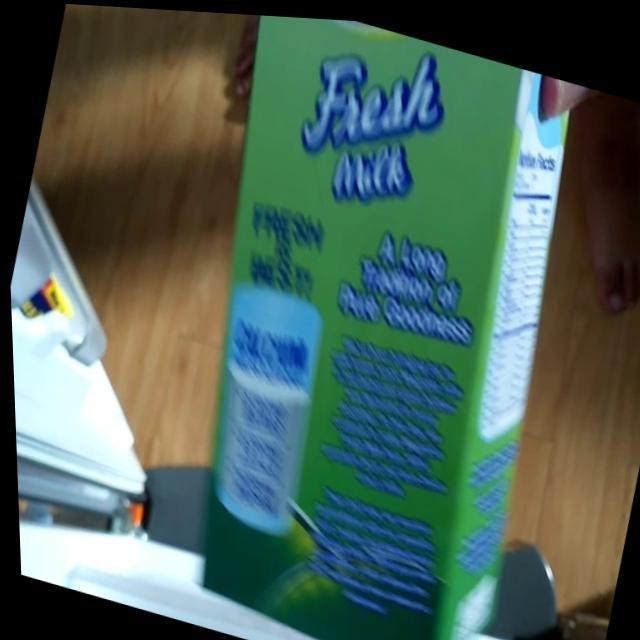milk: (116, 5, 617, 640)
